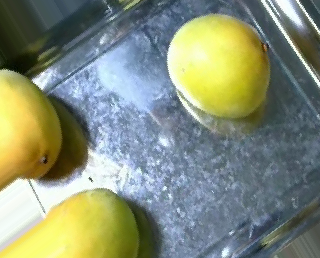Mango: (163, 12, 276, 120), (0, 66, 66, 176), (47, 186, 139, 258)
